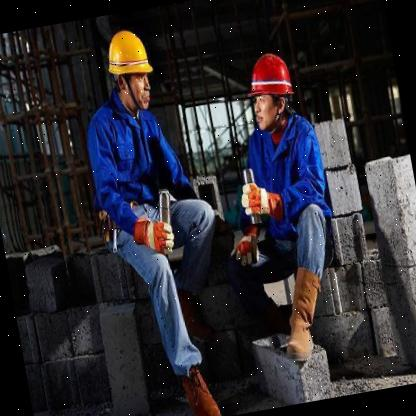capacete: (99, 23, 155, 83), (238, 48, 297, 102)
